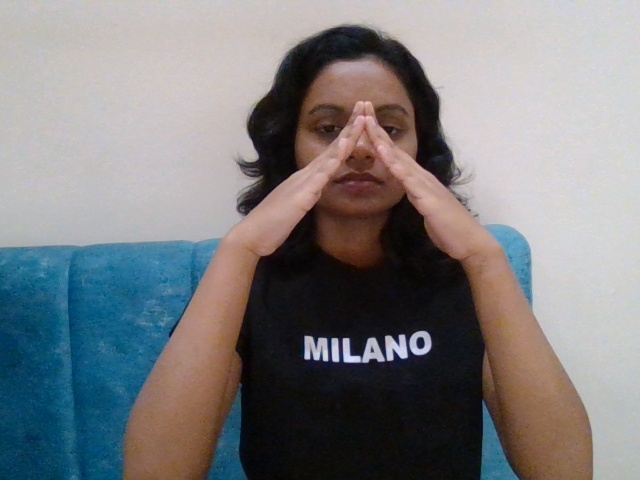House: (213, 88, 525, 333)
